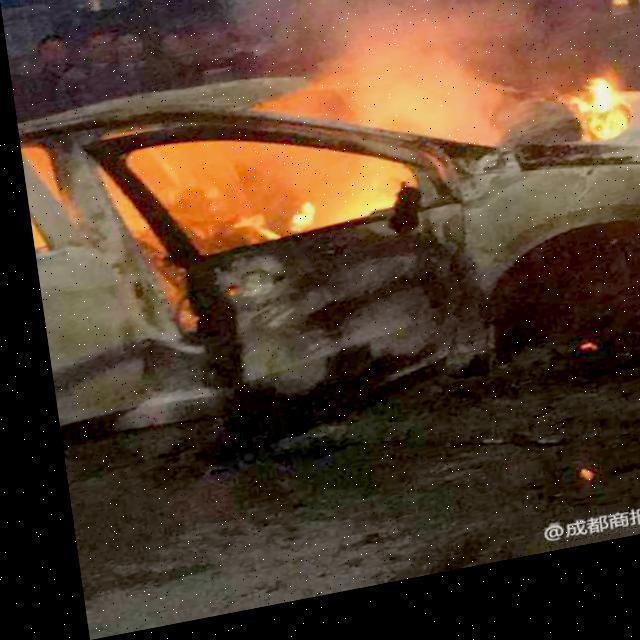Fire: (28, 28, 636, 292)
